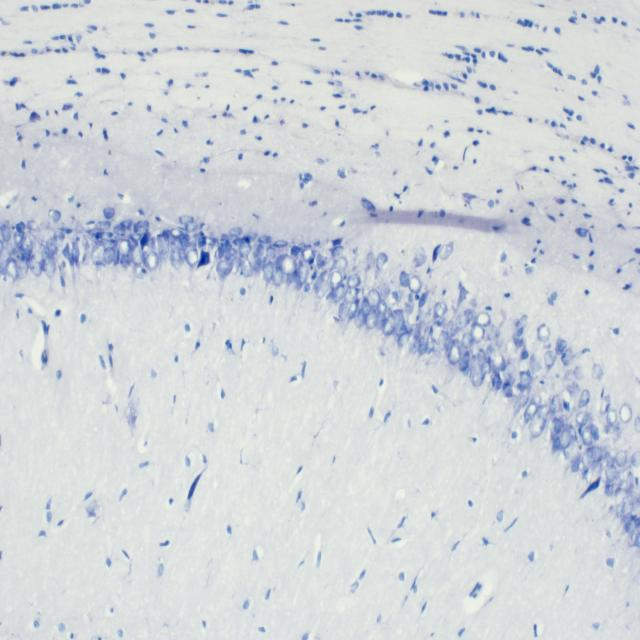neuron: (529, 403, 550, 438), (468, 354, 486, 387), (274, 254, 297, 275), (90, 240, 104, 266), (5, 257, 20, 280), (448, 338, 461, 364), (170, 244, 185, 266), (503, 362, 518, 384), (43, 255, 57, 277), (518, 369, 532, 391), (216, 260, 233, 278), (473, 310, 491, 327), (619, 402, 633, 423), (240, 256, 254, 277), (21, 235, 33, 259), (30, 255, 43, 277), (581, 424, 594, 446), (439, 241, 454, 260), (367, 288, 380, 309), (561, 345, 574, 366), (515, 314, 528, 335), (456, 310, 471, 328), (485, 324, 500, 342), (145, 251, 159, 270), (492, 353, 506, 372), (17, 258, 29, 280), (383, 313, 395, 335), (409, 274, 422, 294), (414, 246, 427, 266), (471, 324, 485, 342), (537, 323, 551, 341), (330, 270, 343, 289), (524, 403, 537, 422), (559, 429, 572, 448), (348, 298, 359, 320), (186, 247, 198, 267), (333, 257, 348, 273), (333, 284, 345, 304), (366, 309, 378, 329), (582, 448, 594, 468), (301, 247, 315, 264), (239, 239, 252, 257), (578, 389, 591, 407), (103, 246, 115, 265), (555, 336, 567, 355), (44, 240, 59, 255), (344, 288, 360, 302), (574, 364, 588, 380), (398, 329, 411, 346), (460, 350, 470, 372), (545, 350, 556, 370), (551, 394, 562, 414), (376, 252, 388, 270), (606, 408, 618, 426), (615, 449, 627, 467), (298, 265, 308, 286), (571, 452, 581, 473), (388, 290, 403, 304), (48, 208, 61, 224), (118, 238, 131, 254), (435, 301, 448, 317), (132, 242, 141, 265), (1, 222, 11, 242), (355, 308, 365, 328), (600, 394, 610, 414), (377, 300, 388, 318), (348, 273, 361, 288), (576, 409, 588, 425), (605, 466, 617, 482), (273, 270, 284, 287), (502, 381, 513, 398), (592, 363, 603, 380), (103, 206, 116, 220), (462, 332, 474, 347), (552, 418, 563, 434), (264, 261, 273, 280), (590, 422, 599, 441), (183, 222, 200, 232), (308, 264, 318, 281), (113, 224, 126, 237), (63, 242, 71, 263), (463, 309, 477, 321), (362, 298, 371, 316), (71, 242, 79, 262), (26, 220, 40, 231), (438, 331, 446, 350), (15, 221, 26, 234), (171, 228, 184, 239), (202, 236, 216, 246), (244, 231, 258, 241), (273, 239, 288, 248), (331, 246, 344, 256), (97, 221, 111, 230), (179, 214, 193, 223), (258, 234, 272, 243), (121, 218, 133, 228), (229, 227, 242, 236), (256, 243, 265, 256), (14, 232, 22, 246), (266, 246, 276, 257), (53, 231, 65, 240), (130, 232, 142, 241), (618, 480, 628, 490), (101, 231, 113, 239), (232, 237, 242, 246), (81, 238, 89, 247), (228, 248, 237, 256), (303, 283, 311, 292), (218, 247, 224, 257)
